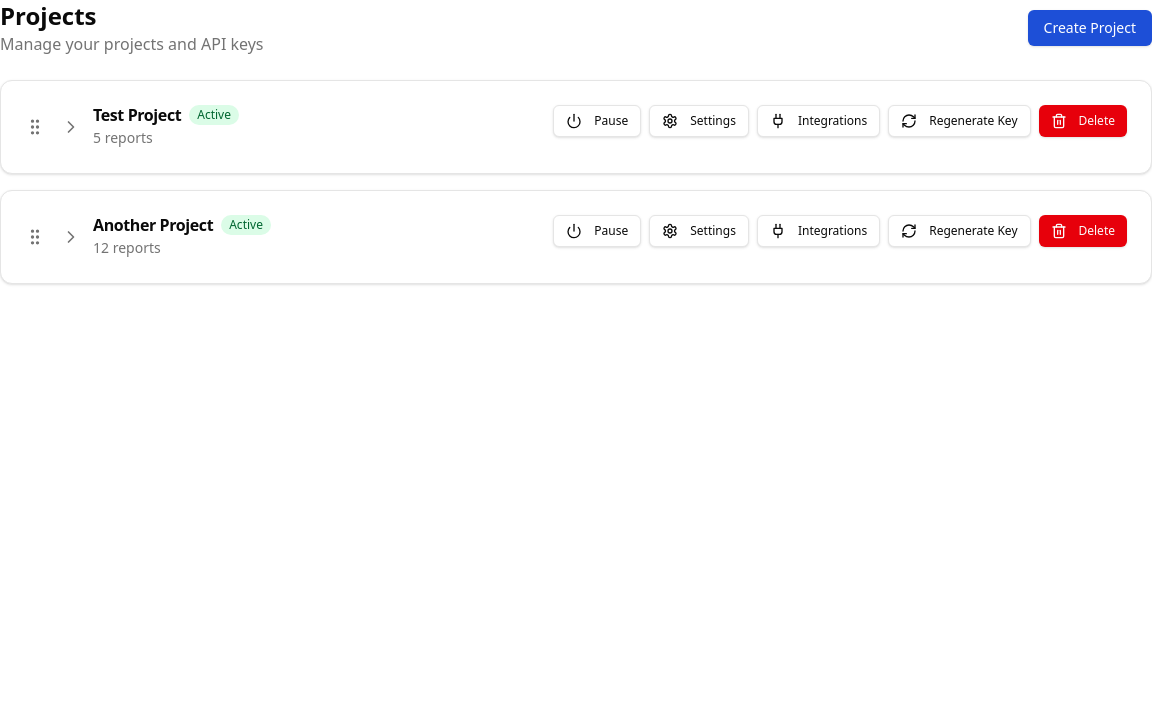
Test: Projects Page › opens create project modal when button clicked
This screenshot has width=1152, height=720.
Click the button "Create Project" at [1090, 28], box [1028,10,1151,46]
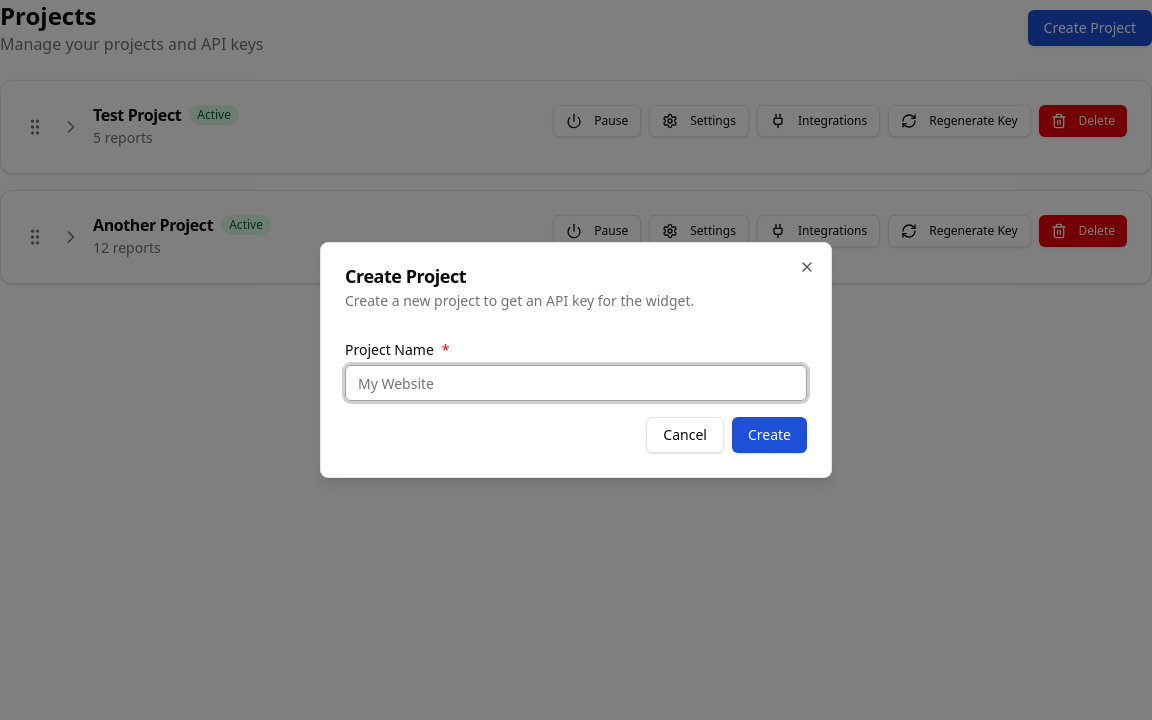
Expected: the field labelled "Project Name *" is shown, [345,365,807,401]
